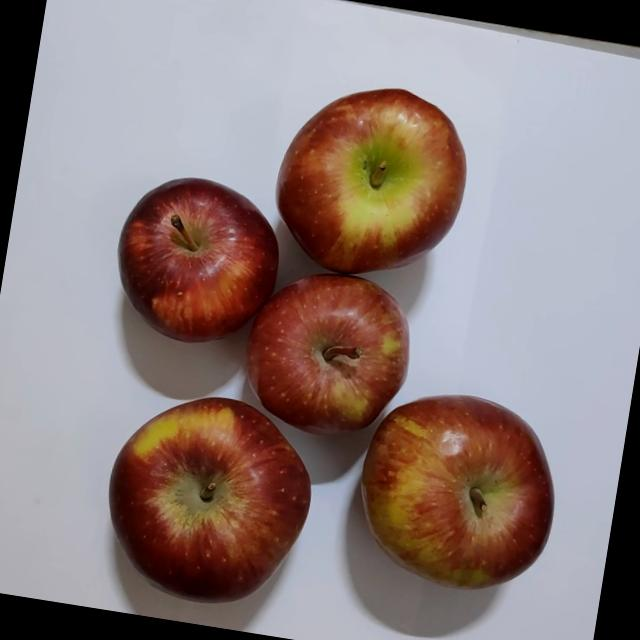apple: (80, 377, 330, 628), (337, 368, 576, 618), (255, 75, 488, 303), (230, 260, 424, 451), (102, 169, 288, 360)
